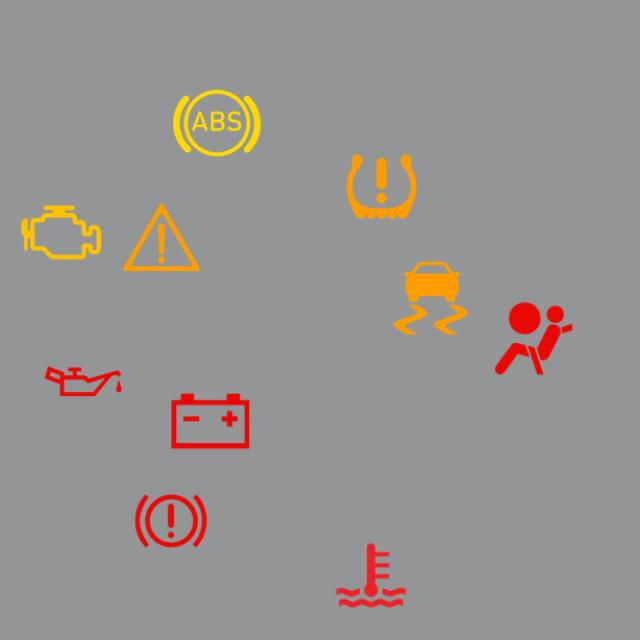Anti Lock Braking System: (169, 75, 265, 171)
Braking System Issue: (123, 473, 219, 569)
Charging System Issue: (162, 373, 258, 469)
Check Engine: (14, 184, 110, 280)
Electronic Stability Problem -ESP-: (382, 250, 478, 346)
Engine Overheating Warning Light: (323, 528, 419, 624)
Low Engine Oil Warning Light: (36, 334, 132, 429)
Low Tire Pressure Warning Light: (334, 138, 429, 234)
Master warning light: (113, 190, 210, 286)
SRS-Airbag: (486, 291, 582, 387)
